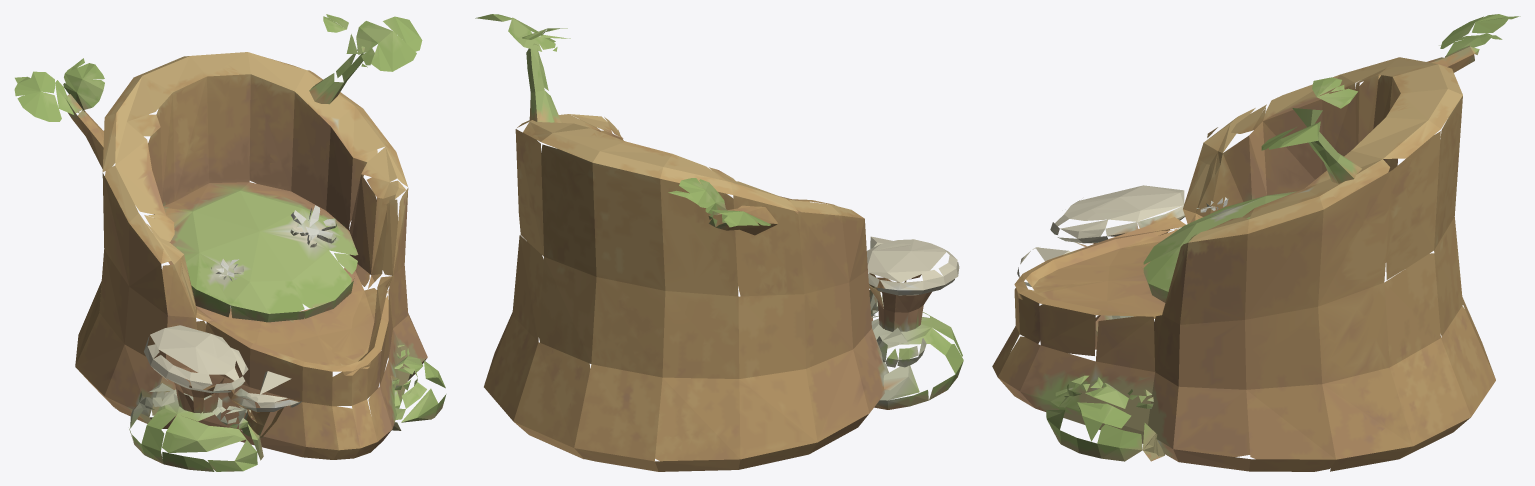
File: g_w_stump.glb
3 renders of one model, left to right at view 1: azimuth 30°, elevation 25°; view 2: azimuth 150°, elevation 25°; view 3: azimuth 270°, elevation 25°, orthographic. The views are drawn at different scales.
Parts seen in each view (by area): view 1: geometry_0; view 2: geometry_0; view 3: geometry_0.
Part boxes in pixels (x1=…): geometry_0: x1=14, y1=14, x2=446, y2=471; geometry_0: x1=475, y1=14, x2=963, y2=471; geometry_0: x1=992, y1=14, x2=1520, y2=471.
Bounding box in the file's own units: 0.1662 × 0.144 × 0.1869.
